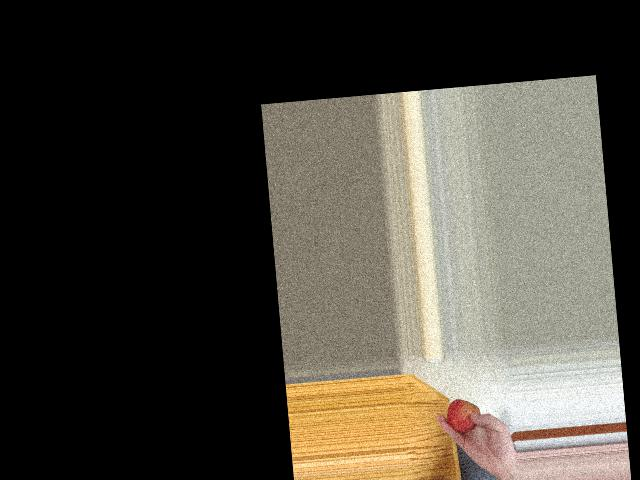apple: (445, 395, 486, 435)
